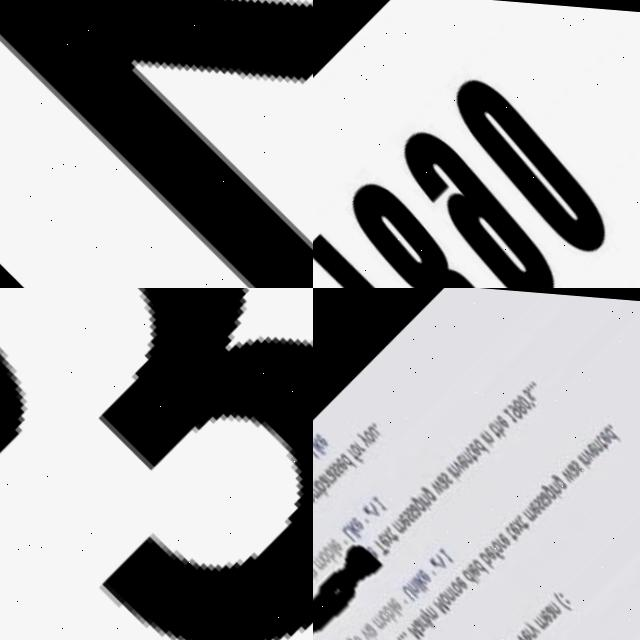0: (416, 50, 640, 286)
3: (0, 288, 313, 640)
4: (508, 392, 527, 411)
5: (504, 396, 523, 415)
7: (313, 199, 494, 288)
8: (313, 151, 539, 288)
9: (355, 92, 599, 288)
A: (401, 497, 420, 515), (535, 597, 553, 615), (562, 454, 580, 472), (533, 484, 550, 501), (430, 470, 447, 487), (358, 620, 373, 635), (405, 616, 419, 630), (315, 473, 328, 487), (321, 467, 334, 481)
B: (472, 547, 492, 566), (316, 543, 335, 562), (375, 603, 394, 621), (313, 476, 328, 495)
D: (454, 565, 474, 584), (465, 553, 485, 572), (599, 419, 619, 438), (470, 433, 488, 451), (336, 451, 352, 467)
E: (424, 474, 443, 493), (492, 408, 510, 427), (323, 534, 341, 553), (510, 622, 528, 640), (531, 602, 549, 620), (447, 570, 465, 588), (476, 541, 494, 559), (501, 515, 519, 533), (582, 435, 600, 453), (594, 422, 612, 440), (410, 564, 428, 582), (370, 530, 388, 548), (392, 509, 410, 527), (451, 449, 469, 467), (463, 437, 481, 455), (344, 512, 362, 530), (329, 453, 347, 471), (556, 460, 574, 478), (491, 526, 508, 543), (523, 495, 540, 512), (382, 594, 399, 611), (313, 429, 327, 447), (462, 559, 476, 573)
F: (482, 539, 500, 557), (343, 445, 361, 462)
G: (404, 491, 424, 511), (536, 477, 555, 496), (546, 467, 565, 486), (415, 480, 434, 499), (337, 633, 355, 640)
H: (488, 414, 507, 433)
I: (573, 449, 588, 464), (442, 464, 457, 479), (412, 612, 426, 626), (461, 563, 475, 577), (543, 479, 557, 493), (380, 600, 394, 614), (407, 574, 421, 588), (477, 430, 491, 444), (321, 543, 335, 557), (355, 624, 369, 638), (414, 494, 427, 508), (340, 524, 354, 537), (313, 439, 319, 453)
K: (0, 0, 313, 288), (407, 570, 426, 588), (342, 519, 359, 536), (313, 436, 325, 453)
L: (335, 523, 354, 541), (414, 610, 428, 624), (406, 576, 420, 590), (323, 541, 337, 555), (382, 600, 396, 613), (313, 441, 319, 458)
M: (425, 592, 446, 613), (399, 620, 419, 639), (526, 608, 545, 627), (363, 610, 382, 629), (516, 500, 535, 518), (386, 515, 404, 533), (313, 551, 323, 570), (313, 481, 320, 499)
N: (540, 594, 559, 612), (476, 424, 495, 442), (412, 488, 430, 506), (442, 458, 460, 476), (455, 445, 473, 463), (435, 583, 452, 600), (545, 474, 562, 491), (573, 445, 590, 462), (585, 431, 602, 448), (399, 576, 416, 593), (418, 602, 433, 617)
O: (483, 533, 502, 551), (442, 575, 460, 593), (370, 605, 388, 623), (343, 439, 361, 457), (358, 425, 376, 443), (431, 588, 448, 605), (313, 546, 328, 564), (344, 631, 361, 640)
R: (516, 620, 531, 634), (441, 580, 455, 594), (489, 531, 503, 545), (318, 470, 332, 484), (350, 437, 364, 451), (409, 613, 422, 625)
S: (434, 464, 452, 483), (565, 451, 583, 469), (527, 490, 544, 507), (396, 506, 413, 523), (519, 382, 536, 399), (530, 488, 546, 504), (400, 503, 416, 519), (324, 463, 339, 478), (327, 460, 341, 473), (502, 634, 516, 640)
T: (366, 535, 385, 554), (379, 523, 397, 541), (499, 522, 516, 539), (511, 509, 528, 526), (591, 427, 608, 444), (483, 418, 500, 435), (461, 443, 477, 459)
U: (393, 580, 412, 599), (363, 422, 380, 439)
V: (445, 453, 463, 471), (577, 440, 594, 457), (350, 624, 367, 640), (506, 627, 523, 640)
X: (507, 512, 522, 527), (376, 527, 390, 541)
Y: (517, 614, 535, 632), (411, 602, 429, 620), (352, 428, 370, 446)
